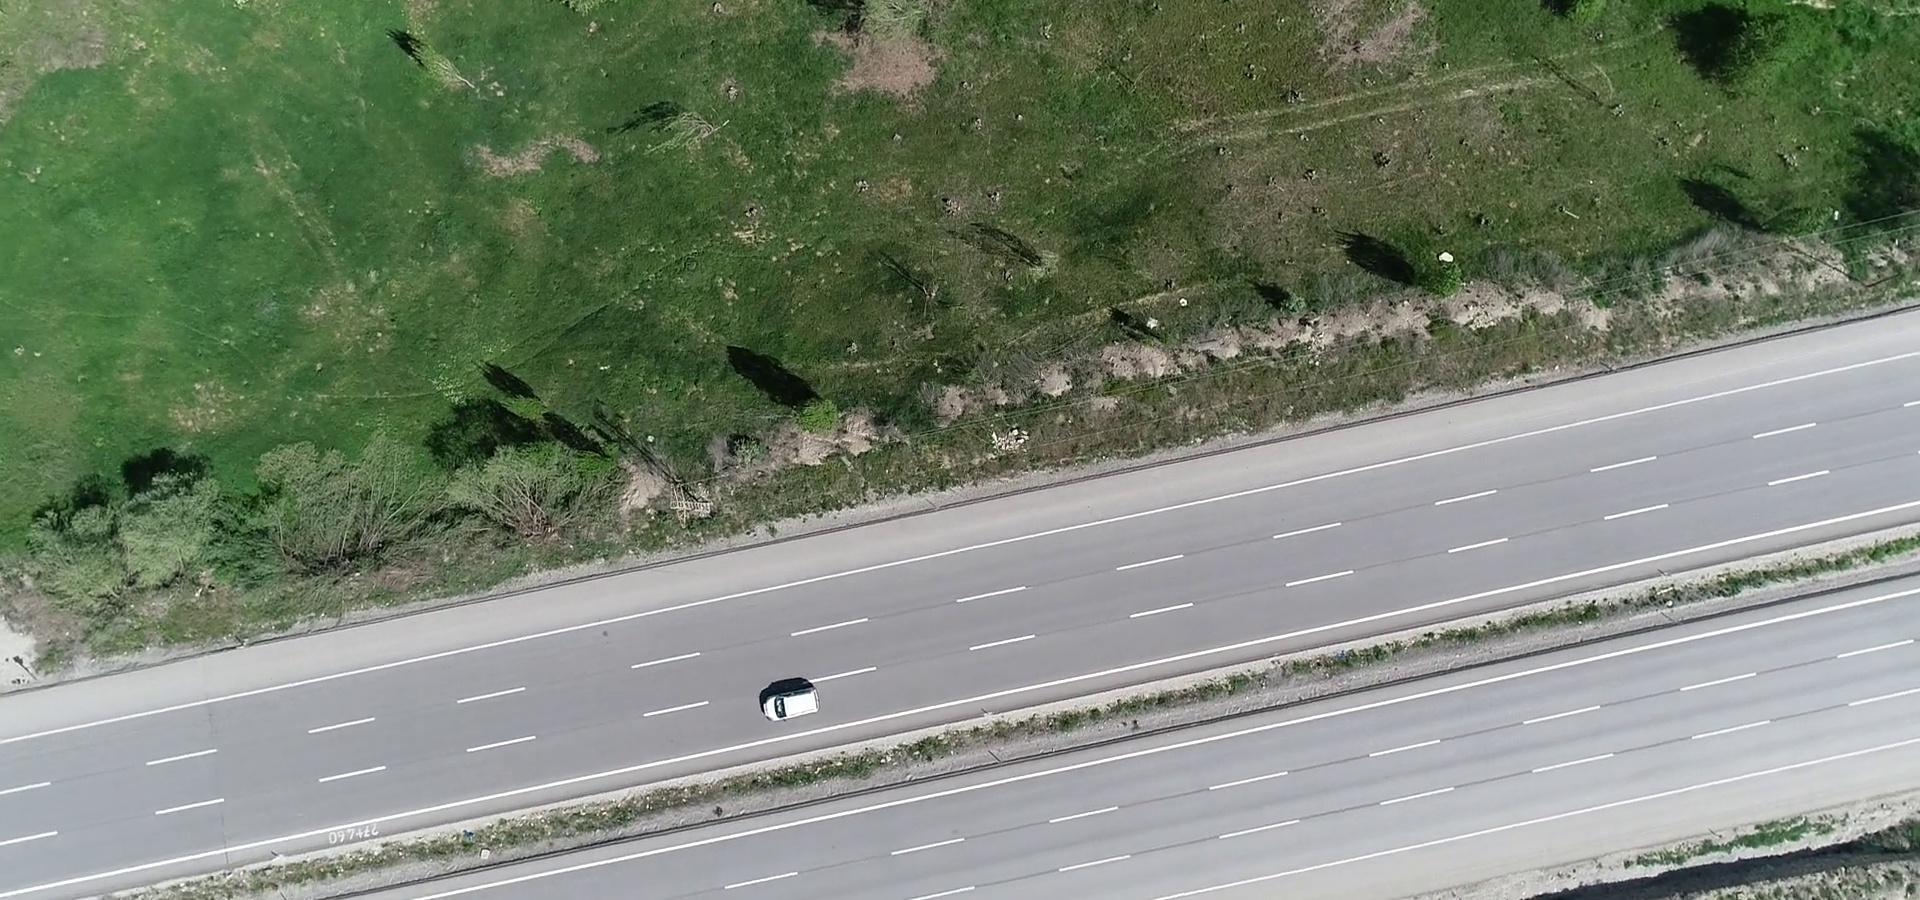araba: (756, 680, 825, 726)
